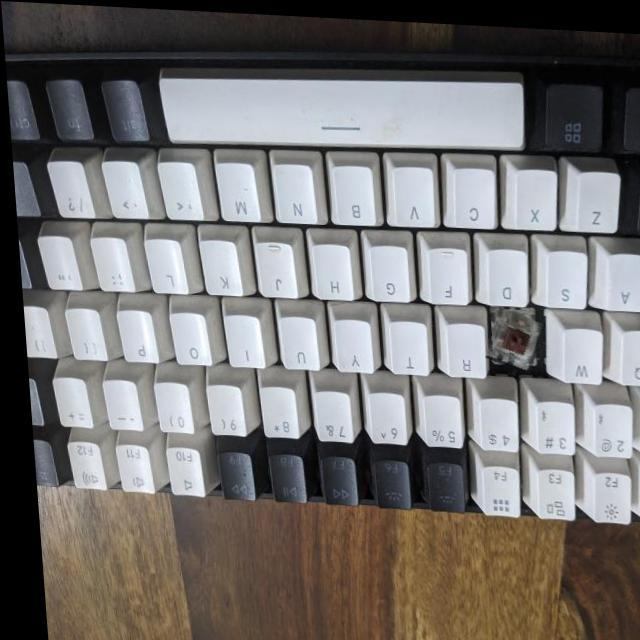key-switch: (480, 303, 537, 365)
